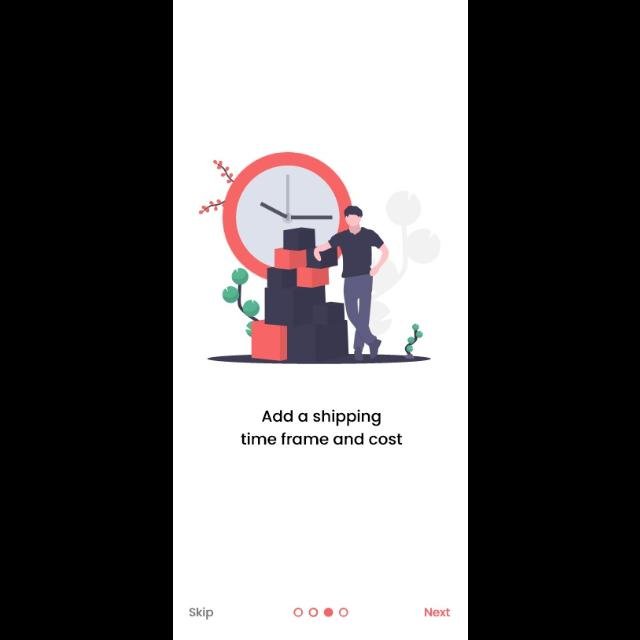image: (198, 153, 440, 365)
pageindicator: (292, 606, 348, 618)
text: (240, 409, 402, 446), (188, 606, 214, 620), (424, 607, 450, 617)
